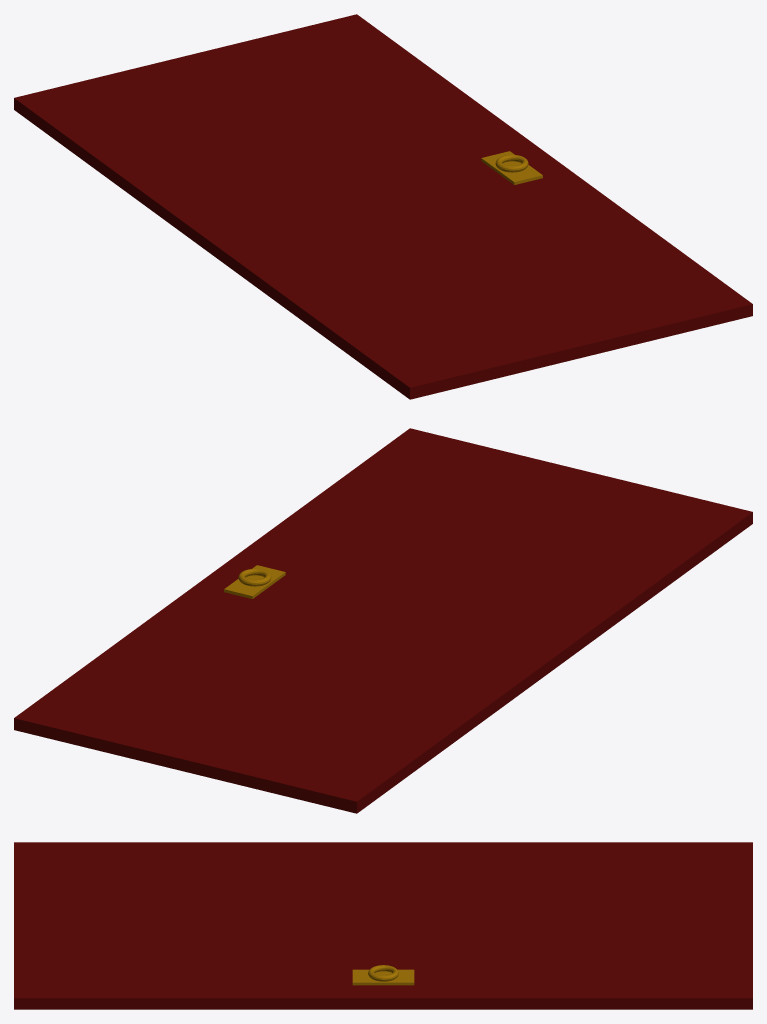
File: Dore2.fbx
3 views of the same model, one above another, from view 1: azimuth 30°, elevation 25°; view 2: azimuth 150°, elevation 25°; view 3: azimuth 270°, elevation 25° (orthographic). The views are drawn at different scales.
Visible parts, largest first — view 1: Plane, Plane.001; view 2: Plane, Plane.001; view 3: Plane, Plane.001, Torus.
Boxes of the visible parts, <box> form: Plane: <box>14,14,752,399</box>; Plane.001: <box>481,151,542,184</box>; Plane: <box>14,428,752,813</box>; Plane.001: <box>224,565,285,598</box>; Plane: <box>14,842,752,1009</box>; Plane.001: <box>352,969,414,985</box>; Torus: <box>368,965,398,981</box>.
Bounding box in the file's own units: 600 × 35 × 1200.
